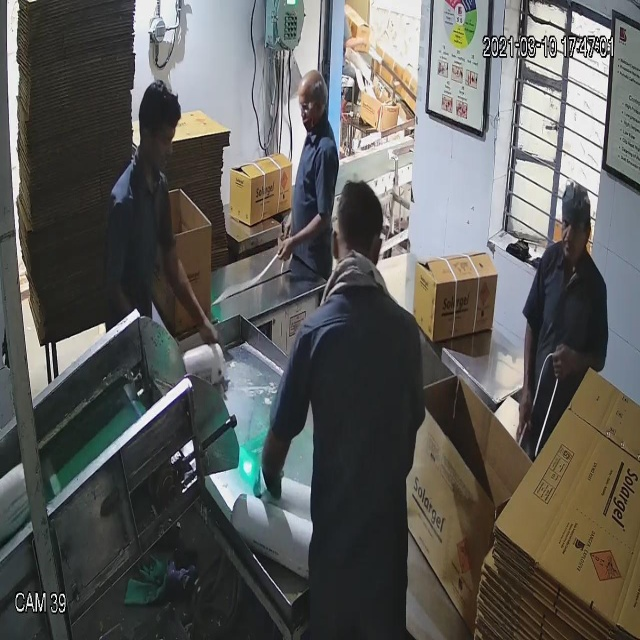Sin_guantes: (158, 236, 226, 366), (539, 328, 602, 397), (514, 294, 538, 444), (274, 207, 331, 264)
